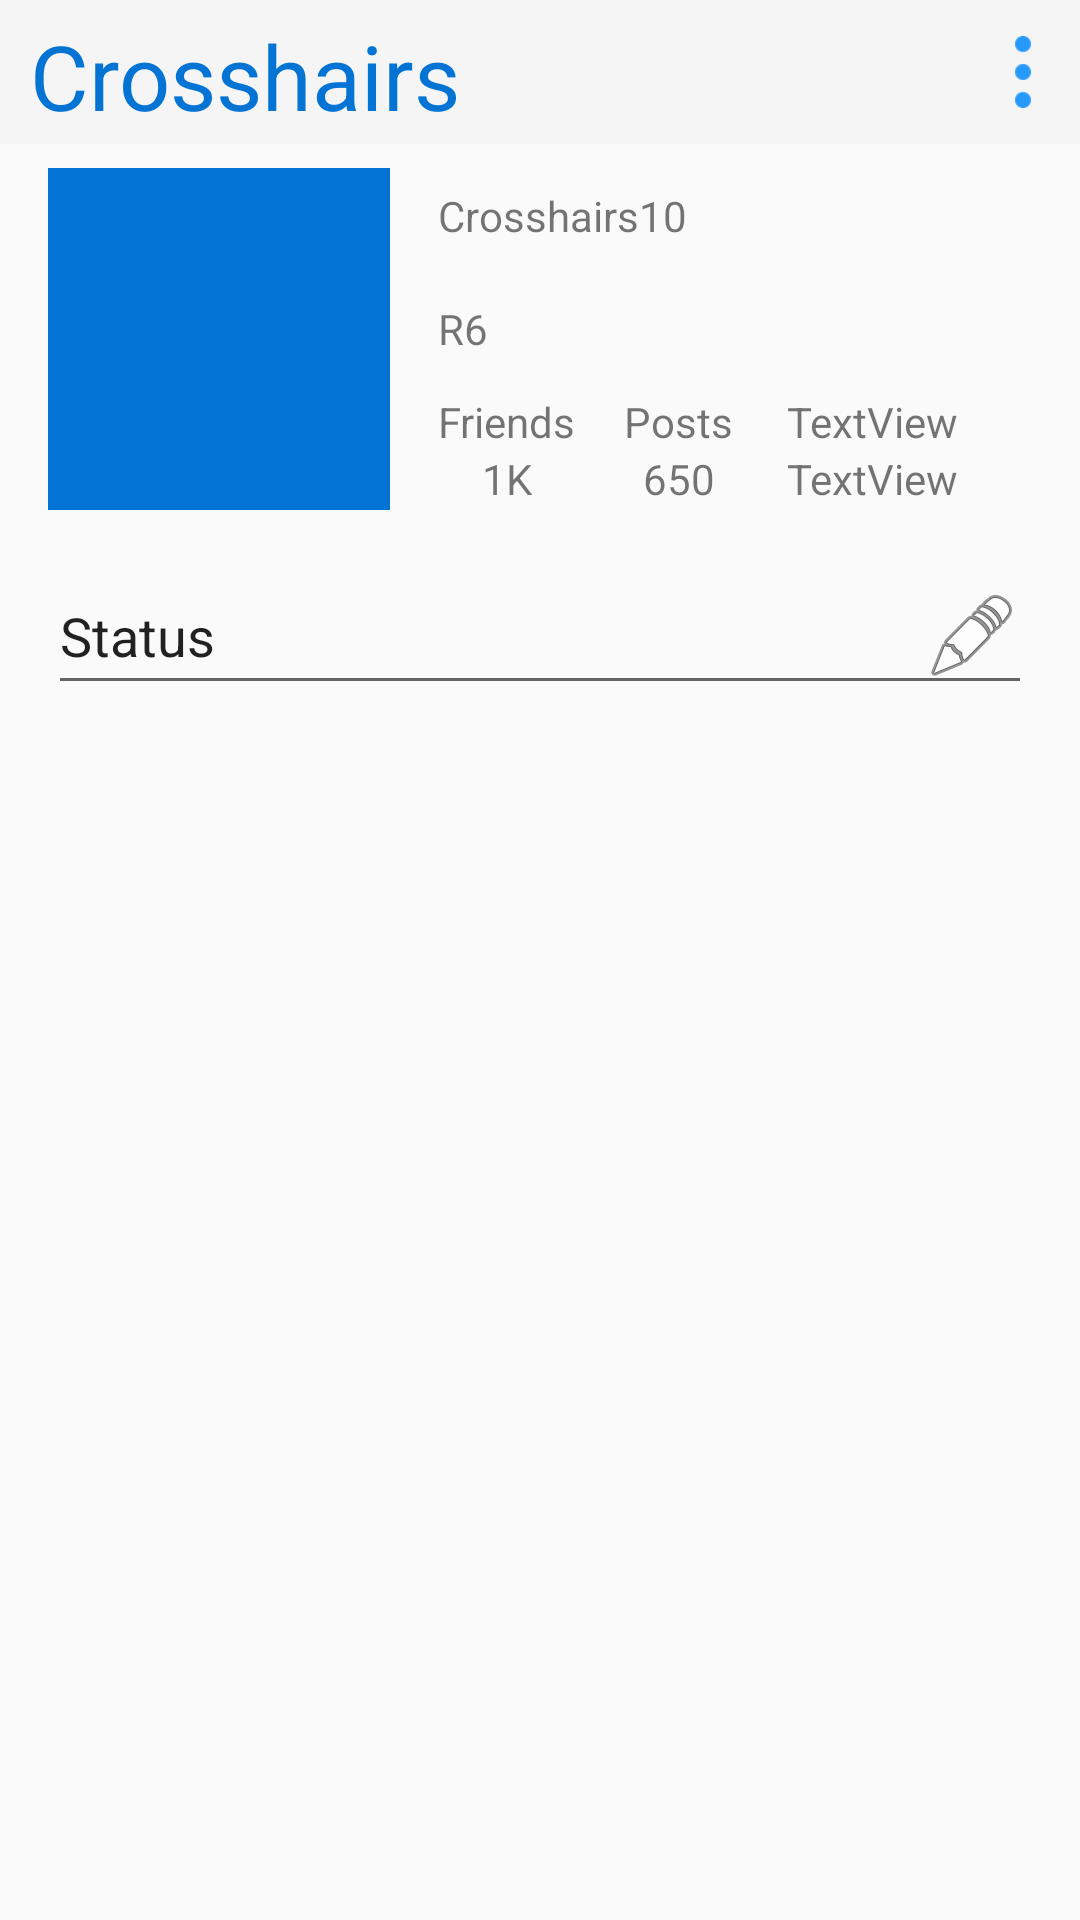

Icons on this 1080x1920 Android screen, each with its box as (x1, y1, x2, y2):
more: (1015, 36, 1031, 108)
